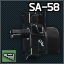SA-58 buffer tube adapter: (0, 0, 64, 64)
